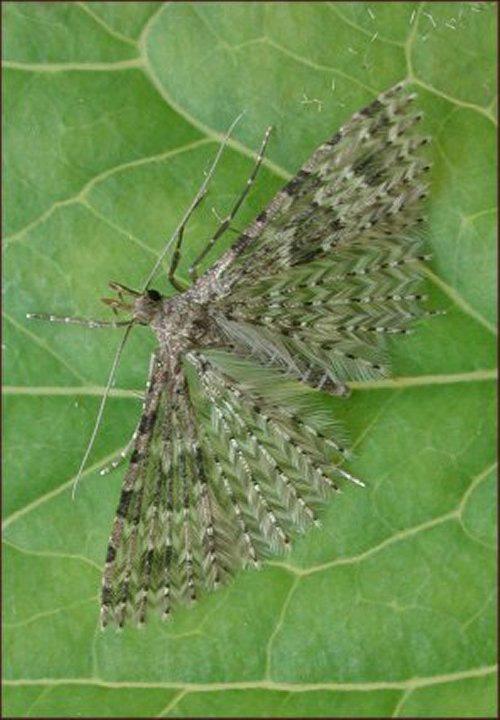Alucitidae: (21, 72, 451, 631)
moth: (23, 74, 453, 633)
